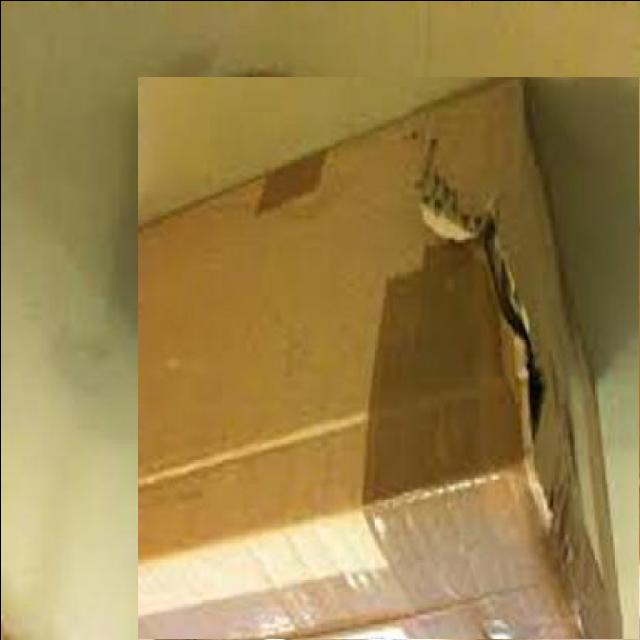defect: (137, 76, 638, 638)
